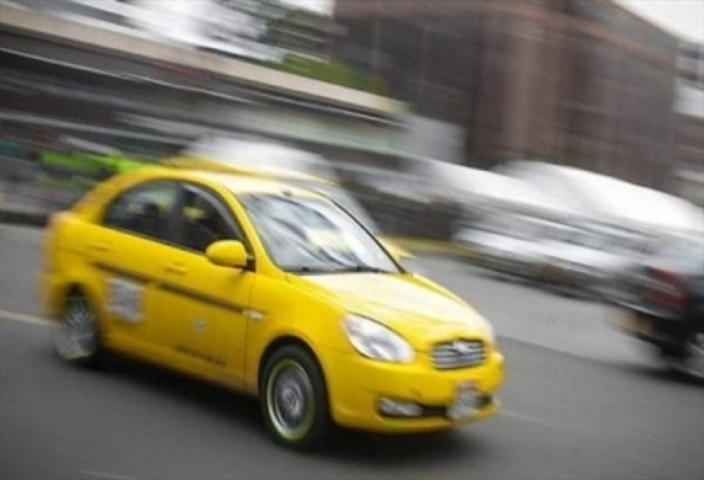taxi: (34, 158, 529, 450)
